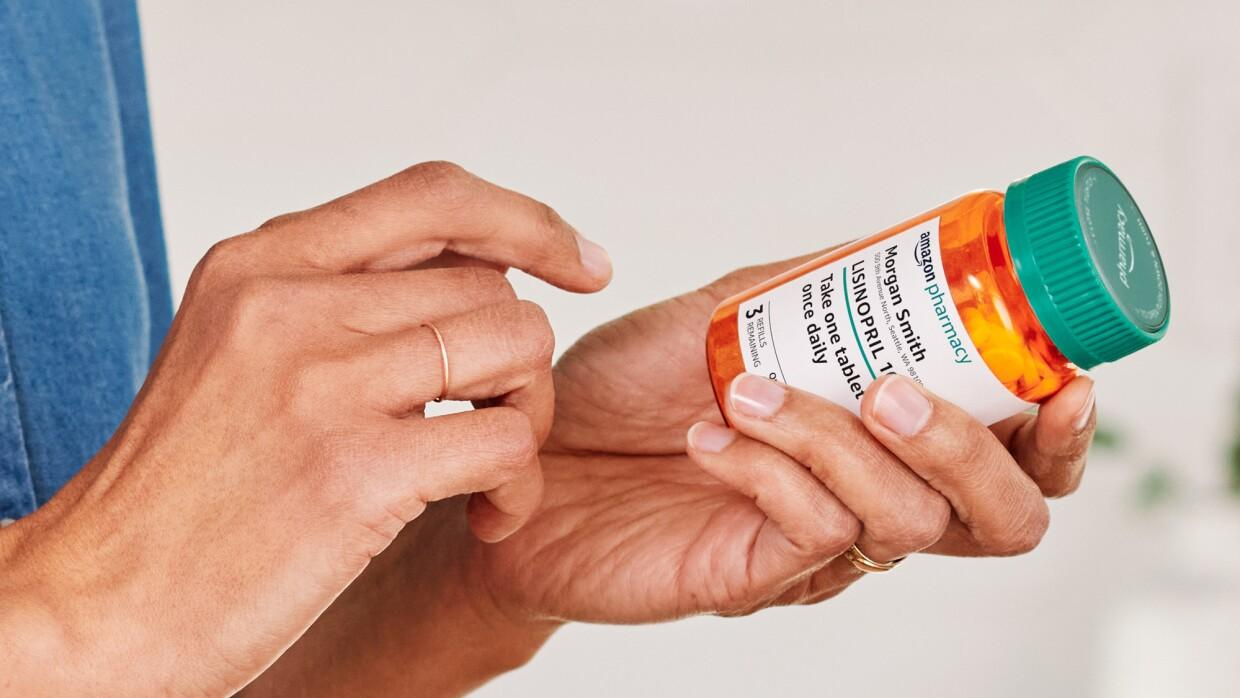jar: (682, 134, 1196, 516)
